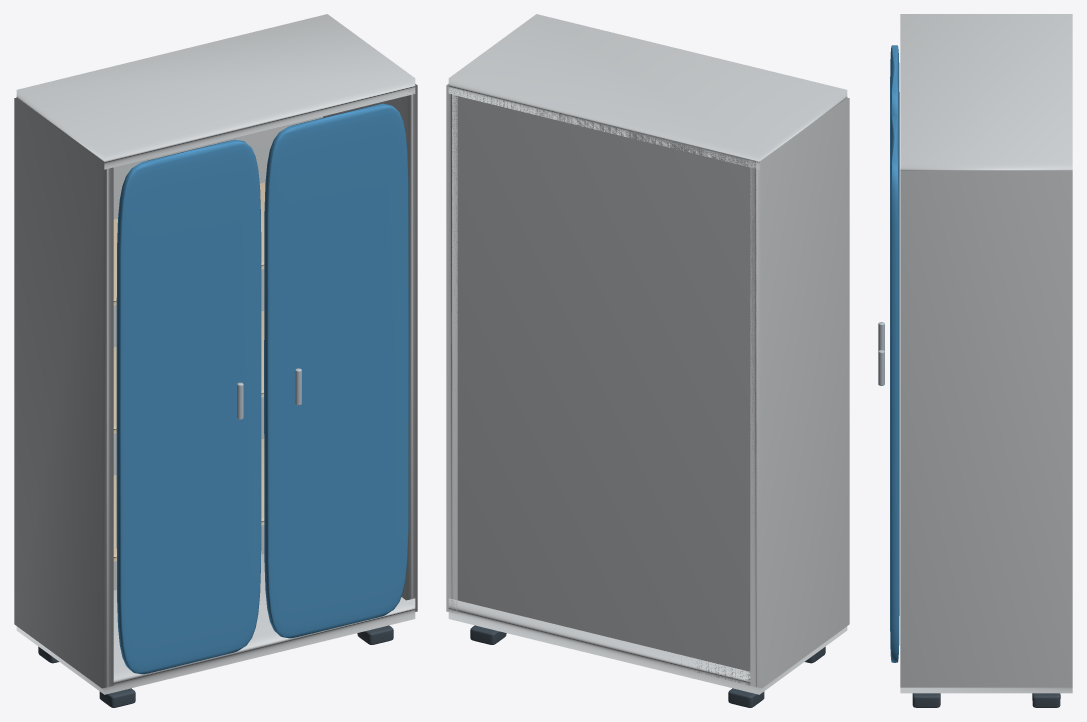
The model's file is tool_cabinet.glb.
3 views of the same model, side by side, from view 1: azimuth 30°, elevation 25°; view 2: azimuth 150°, elevation 25°; view 3: azimuth 270°, elevation 25° (orthographic).
Parts seen in each view (by area): view 1: Left_Door_Panel, Right_Door_Panel, Cabinet_Side_-0.46, Cabinet_Top, Cabinet_Bottom, Cabinet_Side_0.46, Cabinet_Back, Shelf_2, Shelf_0, Shelf_1; view 2: Cabinet_Back, Cabinet_Side_-0.46, Cabinet_Top, Cabinet_Bottom, Cabinet_Side_0.46; view 3: Cabinet_Side_0.46, Cabinet_Top, Right_Door_Panel, Cabinet_Bottom, Left_Door_Panel, Storage_Foot0.39-0.16, Storage_Foot0.390.16.
Part boxes in pixels (x1,y1,x2,y2): Left_Door_Panel: [116, 139, 261, 674]; Right_Door_Panel: [264, 103, 408, 638]; Cabinet_Side_-0.46: [14, 97, 113, 688]; Cabinet_Top: [16, 14, 415, 169]; Cabinet_Bottom: [16, 554, 415, 694]; Cabinet_Side_0.46: [323, 84, 417, 611]; Cabinet_Back: [113, 116, 322, 590]; Shelf_2: [113, 182, 265, 305]; Shelf_0: [113, 439, 264, 561]; Shelf_1: [113, 311, 264, 433]; Cabinet_Back: [452, 90, 756, 685]; Cabinet_Side_-0.46: [750, 97, 849, 688]; Cabinet_Top: [448, 14, 847, 169]; Cabinet_Bottom: [448, 598, 847, 694]; Cabinet_Side_0.46: [446, 84, 457, 613]; Cabinet_Side_0.46: [900, 170, 1072, 687]; Cabinet_Top: [900, 14, 1072, 170]; Right_Door_Panel: [890, 116, 899, 662]; Cabinet_Bottom: [900, 687, 1072, 693]; Left_Door_Panel: [890, 45, 899, 162]; Storage_Foot0.39-0.16: [1032, 693, 1060, 707]; Storage_Foot0.390.16: [912, 693, 940, 707].
Size of the model in its own units: 0.955 by 1.63 by 0.519.
